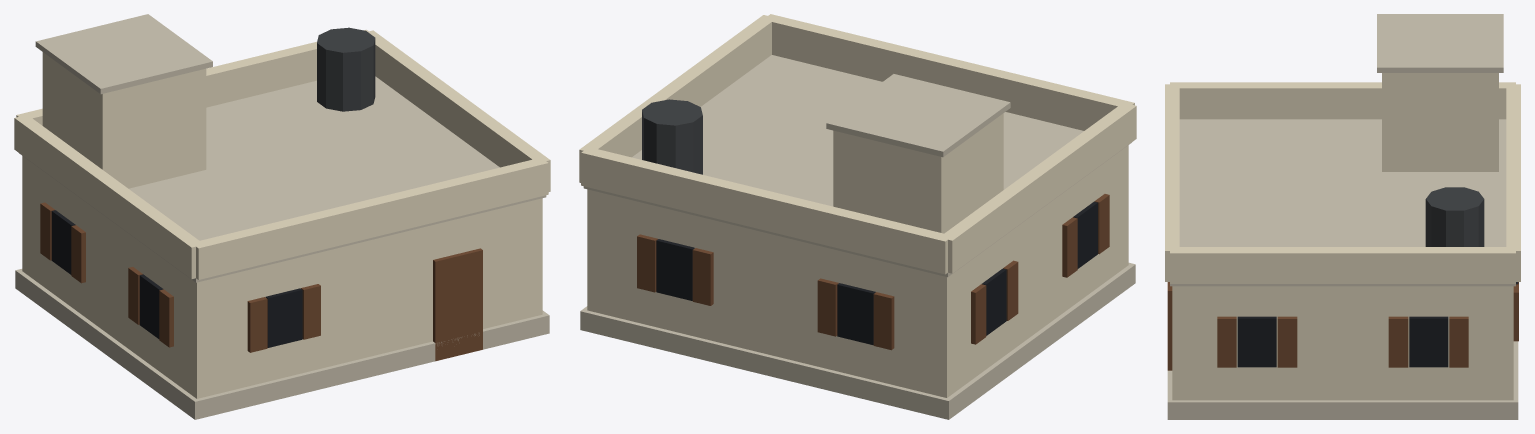
The model's file is a12_house_1.glb.
The picture shows the model from 3 angles, left to right: view 1: azimuth 30°, elevation 25°; view 2: azimuth 150°, elevation 25°; view 3: azimuth 270°, elevation 25°; orthographic projection. The views are drawn at different scales.
Parts seen in each view (by area): view 1: body; view 2: body; view 3: body.
Part boxes in pixels (bbox=[...]): body: bbox=[14, 14, 550, 419]; body: bbox=[579, 14, 1136, 419]; body: bbox=[1165, 14, 1520, 419].
Size of the model in its own units: 1 by 0.6639 by 0.8795.
